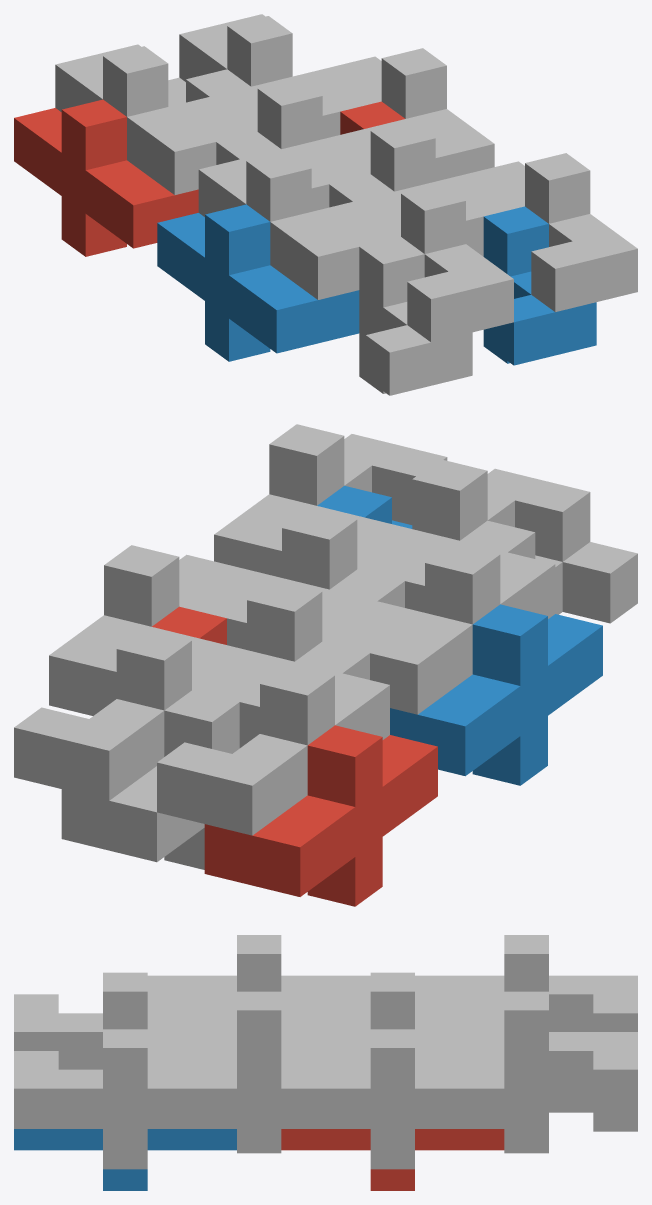
The model's file is tiling.obj.
3 renders of one model, top to bottom at view 1: azimuth 30°, elevation 25°; view 2: azimuth 150°, elevation 25°; view 3: azimuth 270°, elevation 25°, orthographic. The views are drawn at different scales.
Parts seen in each view (by area): view 1: copy_1_domain_2, copy_1_domain_1, copy_2_domain_4, copy_2_domain_8, copy_1_domain_4, copy_1_domain_3, copy_2_domain_2, copy_2_domain_7, copy_2_domain_6, copy_2_domain_3, copy_1_domain_7, copy_1_domain_8 (+4 smaller); view 2: copy_1_domain_1, copy_1_domain_2, copy_1_domain_3, copy_1_domain_7, copy_1_domain_4, copy_2_domain_4, copy_2_domain_8, copy_2_domain_7, copy_1_domain_5, copy_2_domain_3, copy_1_domain_8, copy_2_domain_2 (+4 smaller); view 3: copy_2_domain_7, copy_2_domain_8, copy_1_domain_7, copy_1_domain_8, copy_1_domain_3, copy_2_domain_4, copy_1_domain_4, copy_2_domain_3, copy_2_domain_5, copy_2_domain_6, copy_1_domain_5, copy_1_domain_6.
Part boxes in pixels (box(x1,y1,x2,y2)): copy_1_domain_2: box(157, 204, 359, 361); copy_1_domain_1: box(14, 99, 198, 256); copy_2_domain_4: box(312, 183, 513, 342); copy_2_domain_8: box(436, 153, 637, 312); copy_1_domain_4: box(198, 149, 400, 299); copy_1_domain_3: box(55, 44, 256, 194); copy_2_domain_2: box(359, 236, 472, 395); copy_2_domain_7: box(293, 48, 494, 181); copy_2_domain_6: box(483, 206, 596, 365); copy_2_domain_3: box(169, 78, 369, 211); copy_1_domain_7: box(179, 14, 381, 138); copy_1_domain_8: box(323, 119, 524, 256); copy_1_domain_1: box(204, 725, 437, 906); copy_1_domain_2: box(390, 604, 602, 785); copy_1_domain_3: box(157, 662, 389, 835); copy_1_domain_7: box(14, 627, 246, 800); copy_1_domain_4: box(322, 541, 555, 714); copy_2_domain_4: box(357, 459, 590, 612); copy_2_domain_8: box(214, 424, 447, 577); copy_2_domain_7: box(49, 545, 281, 715); copy_1_domain_5: box(61, 690, 239, 869); copy_2_domain_3: box(192, 580, 424, 747); copy_1_domain_8: box(179, 506, 411, 649); copy_2_domain_2: box(460, 520, 637, 623); copy_2_domain_7: box(281, 1029, 504, 1169); copy_2_domain_8: box(14, 1029, 236, 1169); copy_1_domain_7: box(415, 991, 637, 1131); copy_1_domain_8: box(147, 991, 370, 1131); copy_1_domain_3: box(415, 935, 637, 1031); copy_2_domain_4: box(14, 972, 236, 1069); copy_1_domain_4: box(147, 935, 370, 1013); copy_2_domain_3: box(281, 972, 504, 1031); copy_2_domain_5: box(281, 1129, 504, 1190); copy_2_domain_6: box(14, 1129, 236, 1190); copy_1_domain_5: box(504, 1091, 637, 1153); copy_1_domain_6: box(237, 1131, 281, 1153).
Size of the model in its own units: 7 by 4 by 14.
